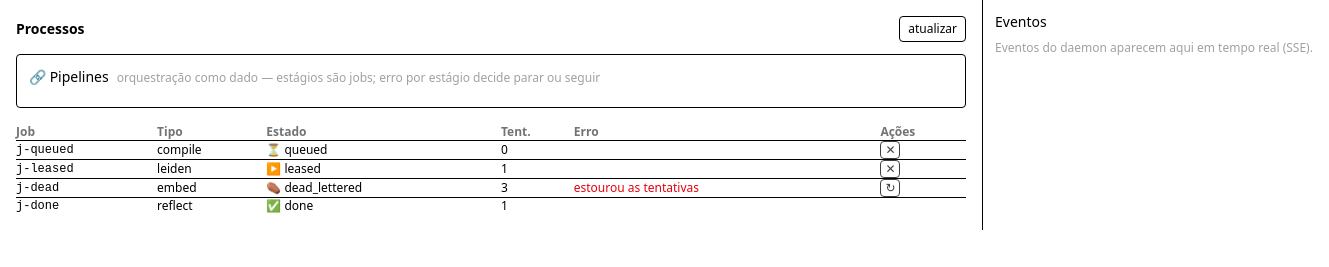
Test case: ProcessesPanel › 409 da fila aparece como motivo em vez de botão inerte
Click the button titled "cancelar agora" in the row of "j-queued" at (890, 150), box [880,141,900,159]
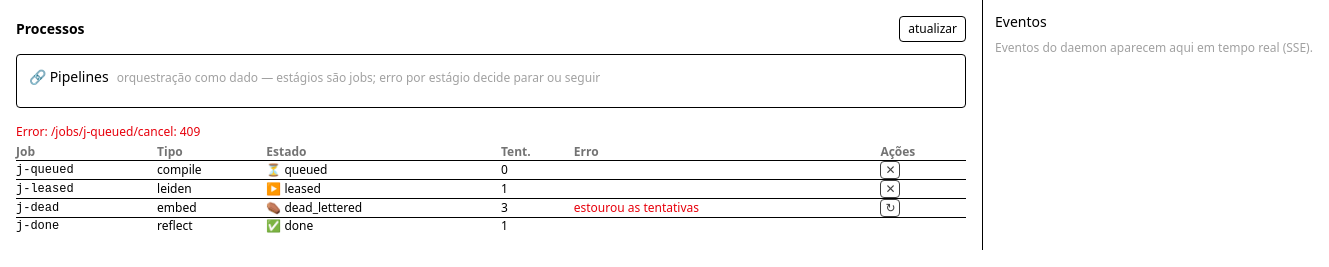
Expected: the text "Error: /jobs/j-queued/cancel: 409" is shown, [16,123,200,140]
